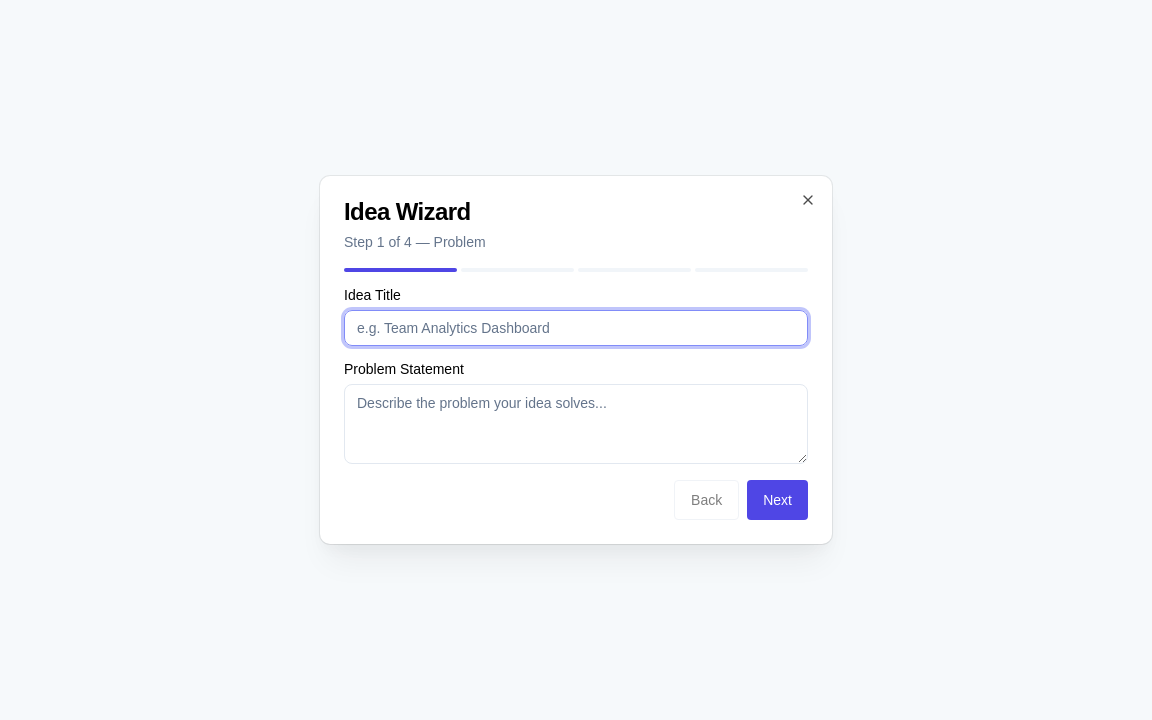
it: IdeaWizard › shows Generate button on last step
The width and height of the screenshot is (1152, 720).
Click the button "Next" at (778, 500), box [747,480,808,520]
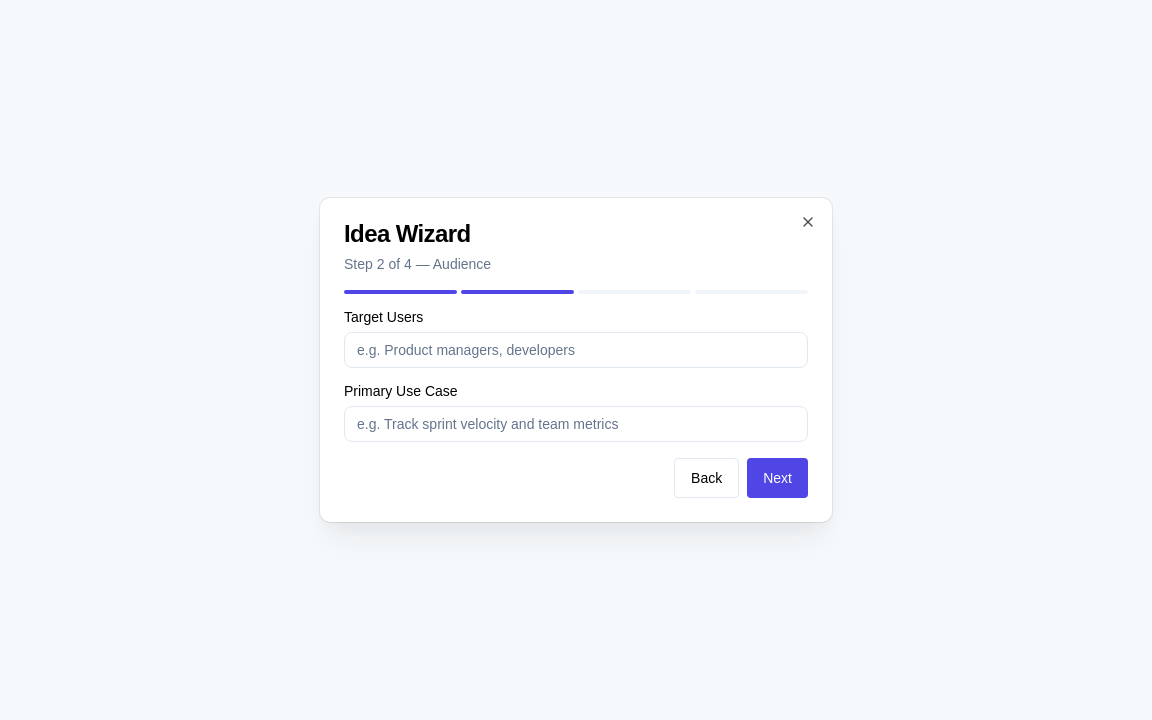
Click the button "Next" at (778, 478), box [747,458,808,498]
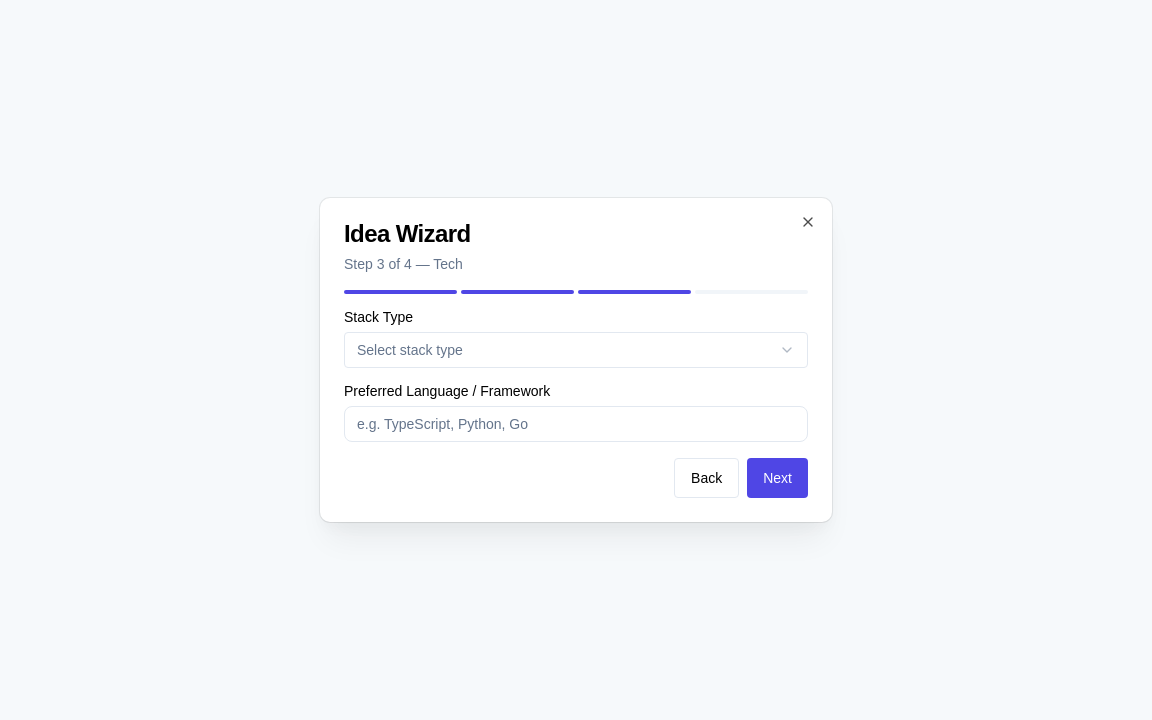
Click the button "Next" at (778, 478), box [747,458,808,498]
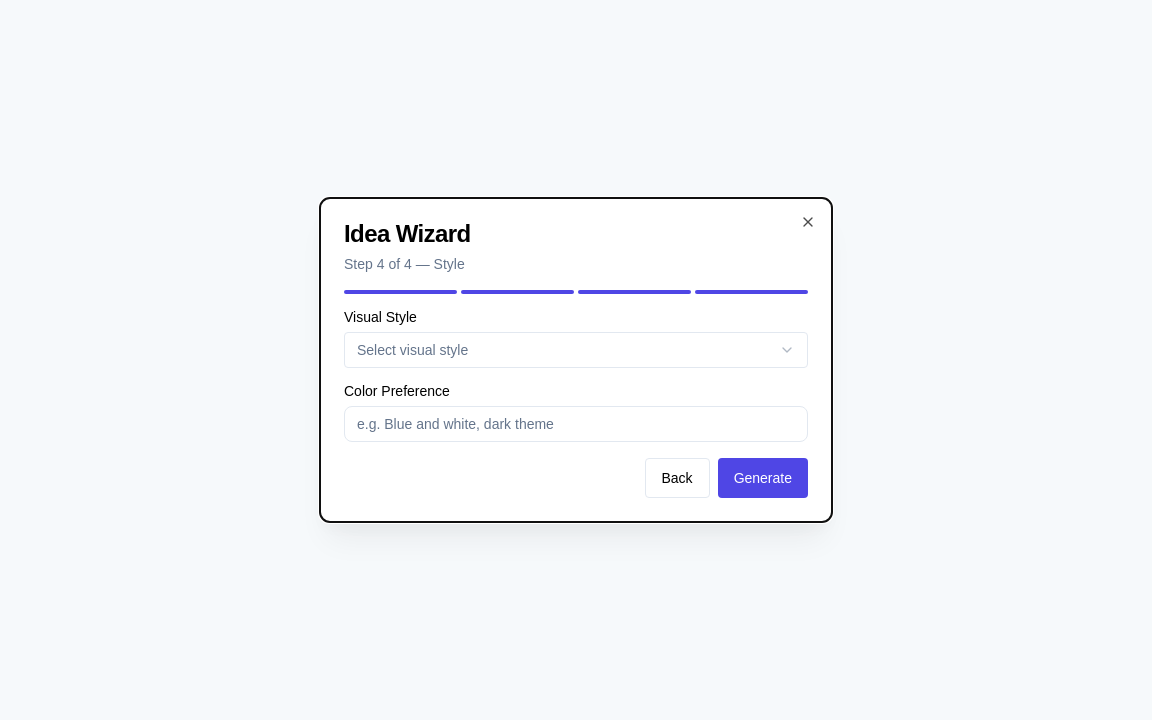
Expected: the text "Step 4 of 4 — Style" is shown, [344,256,465,272]
Expected: the button "Generate" is shown, [718,458,808,498]
